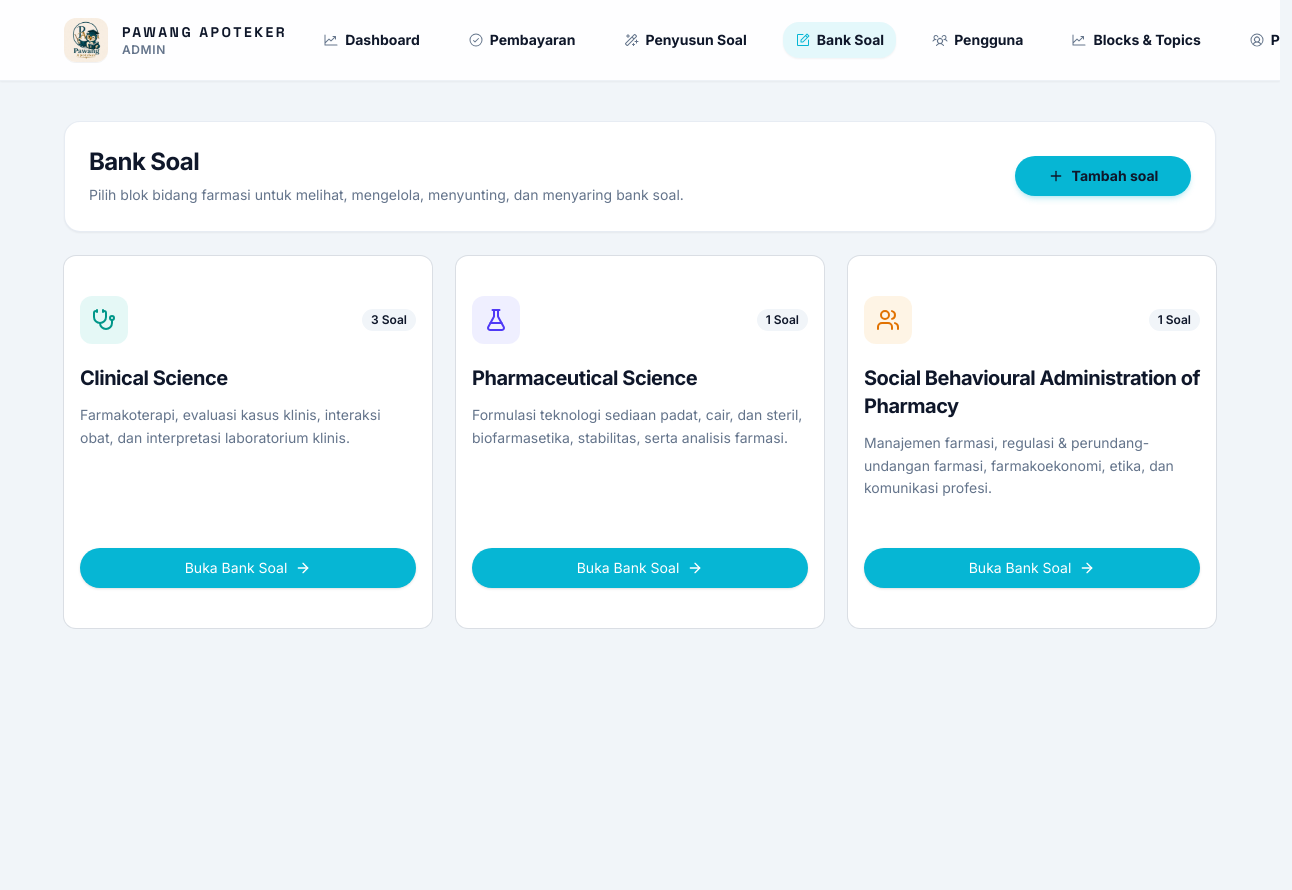
Test case: QuestionsPage - Block selection and list integration › clicking a block card enters the block questions list
The width and height of the screenshot is (1292, 890).
# Click Clinical Science card
Click the element "Clinical Science". click: click(248, 442)
box: 64,256 -> 432,628
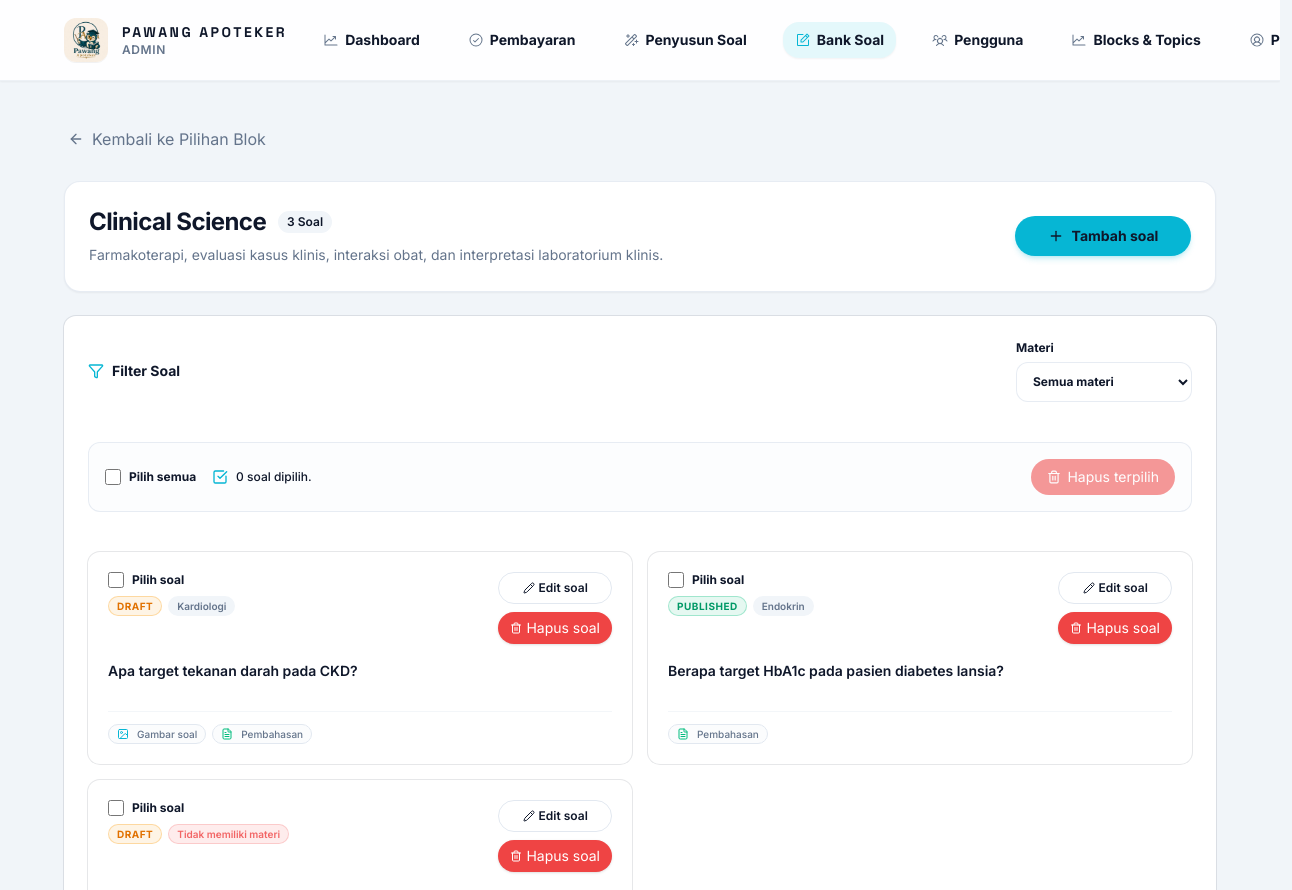
Expected: the heading "Clinical Science" is shown, 89,206 -> 266,238
Expected: the button "Kembali ke Pilihan Blok" is shown, 56,121 -> 278,157
Expected: the heading "Apa target tekanan darah pada CKD?" is shown, 108,662 -> 358,679
